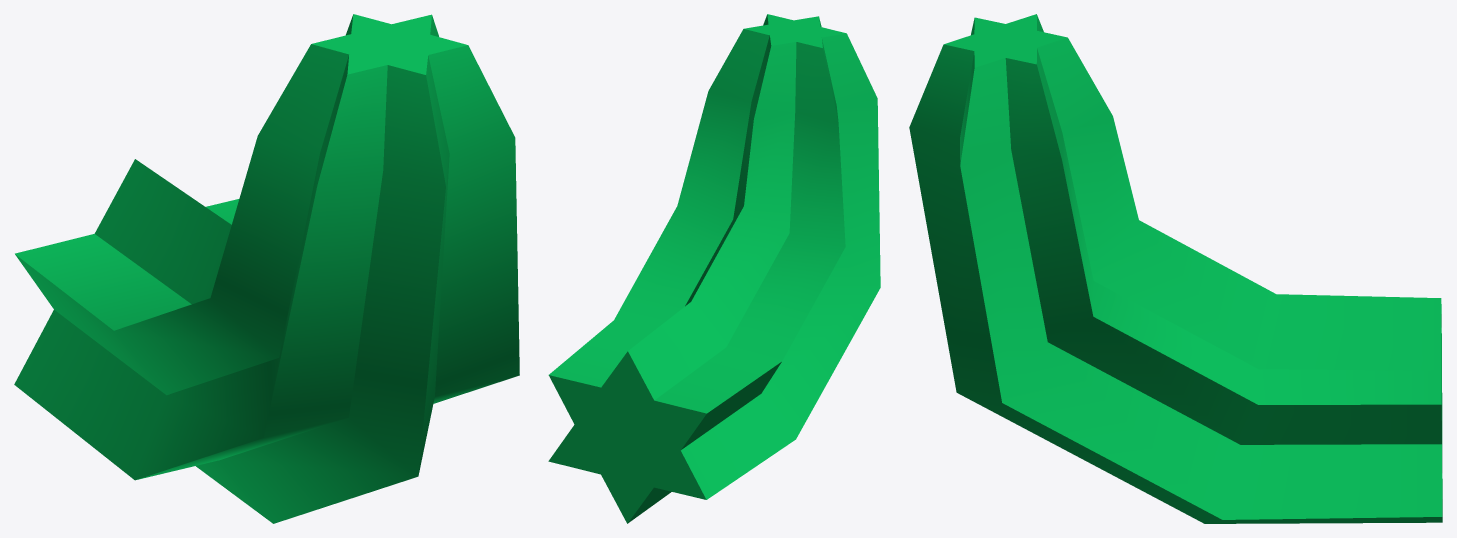
Rendered from CactusTallArm.fbx.
The picture shows the model from 3 angles, left to right: view 1: azimuth 30°, elevation 25°; view 2: azimuth 150°, elevation 25°; view 3: azimuth 270°, elevation 25°; orthographic projection. The views are drawn at different scales.
Parts seen in each view (by area): view 1: CactusTallArm; view 2: CactusTallArm; view 3: CactusTallArm.
Part boxes in pixels (x1=…): CactusTallArm: x1=14, y1=14, x2=519, y2=523; CactusTallArm: x1=548, y1=14, x2=880, y2=523; CactusTallArm: x1=909, y1=14, x2=1442, y2=523.
Size of the model in its own units: 1.91 by 4.05 by 4.02.
